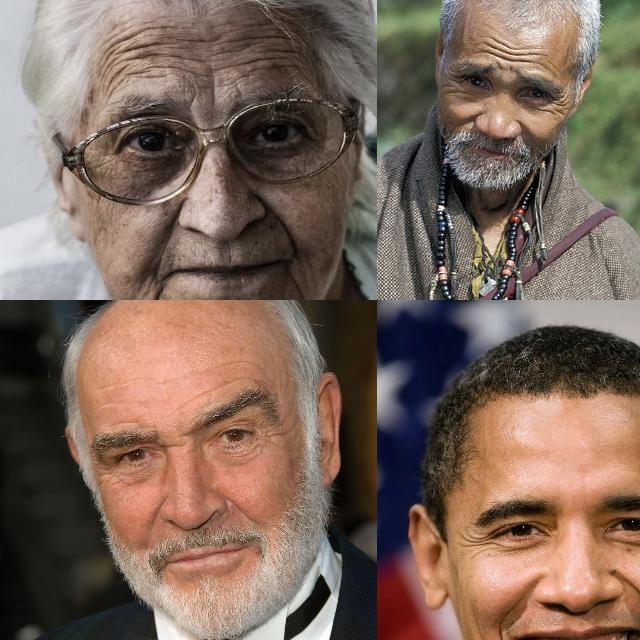crows_feet: (458, 530, 488, 560), (256, 422, 284, 451), (94, 462, 118, 484), (445, 74, 461, 98), (552, 95, 568, 114)
forehead: (250, 31, 304, 84), (110, 30, 162, 82), (185, 34, 238, 72), (481, 34, 547, 62), (216, 349, 262, 377), (200, 371, 244, 393), (112, 414, 148, 430)
frown_line: (204, 86, 223, 120), (161, 435, 189, 455), (496, 62, 518, 76)
gummy_smile: (260, 195, 298, 245), (494, 586, 530, 632), (614, 568, 640, 615), (155, 219, 179, 265), (228, 495, 264, 523), (148, 498, 168, 526), (514, 116, 534, 140), (458, 111, 478, 125)
sad_smile: (141, 276, 167, 300), (284, 270, 306, 296)
